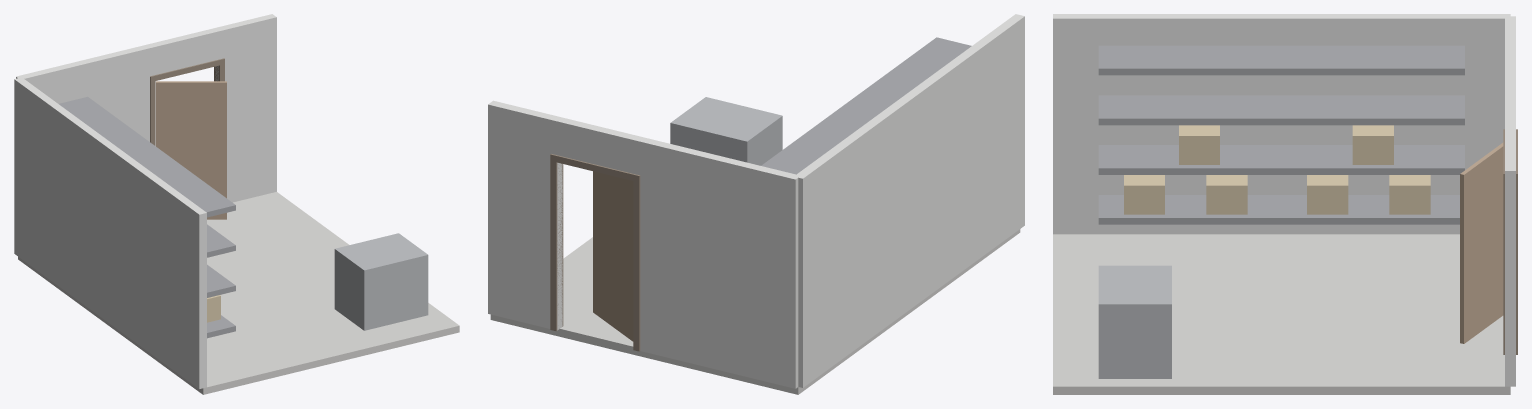
Rendered from scene-popup-storage.glb.
3 renders of one model, left to right at view 1: azimuth 30°, elevation 25°; view 2: azimuth 150°, elevation 25°; view 3: azimuth 270°, elevation 25°, orthographic. The views are drawn at different scales.
Visible parts, largest first — view 1: wall_left, floor, wall_back_r, cart, door_back, wall_back_l, rack_3, wall_back_lintel, rack_1, rack_2, frame_back_top, rack_0; view 2: wall_left, wall_back_l, wall_back_r, rack_3, door_back, floor, cart, wall_back_lintel, frame_back_r, frame_back_l, frame_back_top; view 3: floor, wall_left, rack_2, rack_3, rack_1, cart, rack_0, door_back, wall_back_r, box_0, box_1, box_2 (+6 smaller).
Part boxes in pixels (x1=…): wall_left: x1=14, y1=77, x2=206, y2=388; floor: x1=18, y1=192, x2=459, y2=394; wall_back_r: x1=215, y1=14, x2=276, y2=202; cart: x1=334, y1=233, x2=428, y2=330; door_back: x1=156, y1=81, x2=226, y2=219; wall_back_l: x1=16, y1=43, x2=154, y2=141; rack_3: x1=59, y1=96, x2=235, y2=217; wall_back_lintel: x1=151, y1=28, x2=218, y2=74; rack_1: x1=207, y1=264, x2=235, y2=297; rack_2: x1=207, y1=224, x2=235, y2=257; frame_back_top: x1=150, y1=58, x2=224, y2=82; rack_0: x1=207, y1=315, x2=235, y2=338; wall_left: x1=796, y1=14, x2=1024, y2=387; wall_back_l: x1=634, y1=136, x2=800, y2=388; wall_back_r: x1=488, y1=100, x2=562, y2=330; rack_3: x1=761, y1=37, x2=971, y2=174; door_back: x1=593, y1=171, x2=633, y2=341; floor: x1=490, y1=229, x2=1020, y2=394; cart: x1=670, y1=97, x2=782, y2=165; wall_back_lintel: x1=557, y1=117, x2=638, y2=173; frame_back_r: x1=550, y1=161, x2=563, y2=331; frame_back_l: x1=633, y1=181, x2=640, y2=351; frame_back_top: x1=550, y1=154, x2=640, y2=182; floor: x1=1053, y1=234, x2=1510, y2=394; wall_left: x1=1053, y1=14, x2=1510, y2=234; rack_2: x1=1098, y1=95, x2=1464, y2=125; rack_3: x1=1098, y1=45, x2=1464, y2=75; rack_1: x1=1098, y1=145, x2=1464, y2=174; cart: x1=1098, y1=265, x2=1171, y2=378; rack_0: x1=1098, y1=195, x2=1459, y2=224; door_back: x1=1460, y1=142, x2=1503, y2=343; wall_back_r: x1=1505, y1=136, x2=1515, y2=386; box_0: x1=1389, y1=175, x2=1430, y2=214; box_1: x1=1307, y1=175, x2=1348, y2=214; box_2: x1=1206, y1=175, x2=1247, y2=214.
Bounding box in the file's own units: 4.06 × 2.7 × 5.08.
